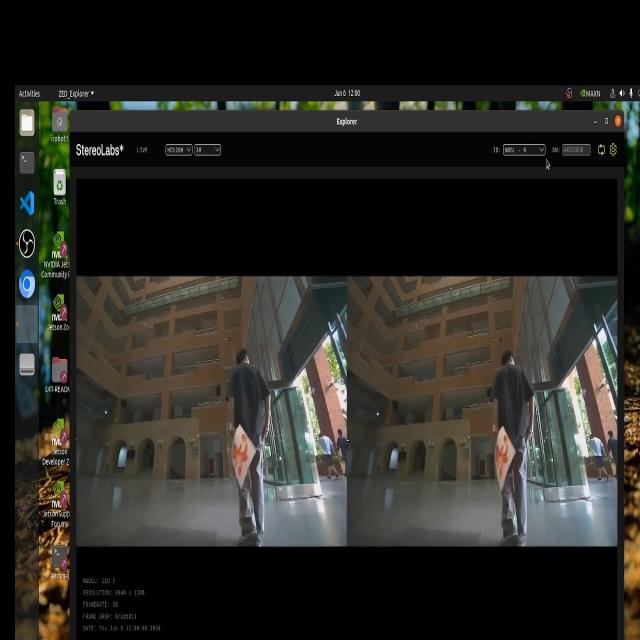red: (230, 432, 252, 476), (494, 438, 510, 482)
